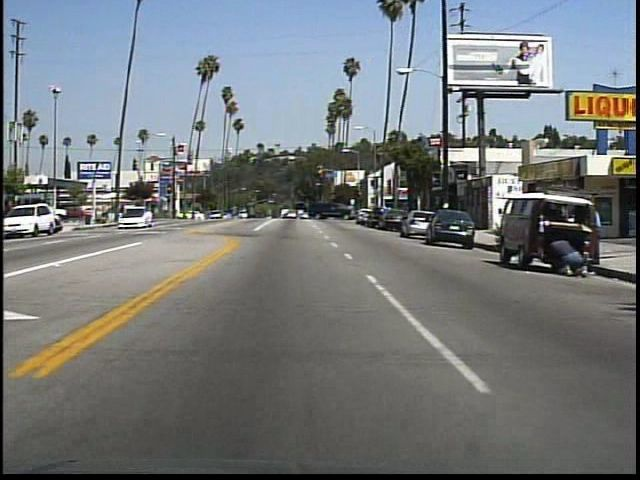person: (545, 233, 588, 281)
